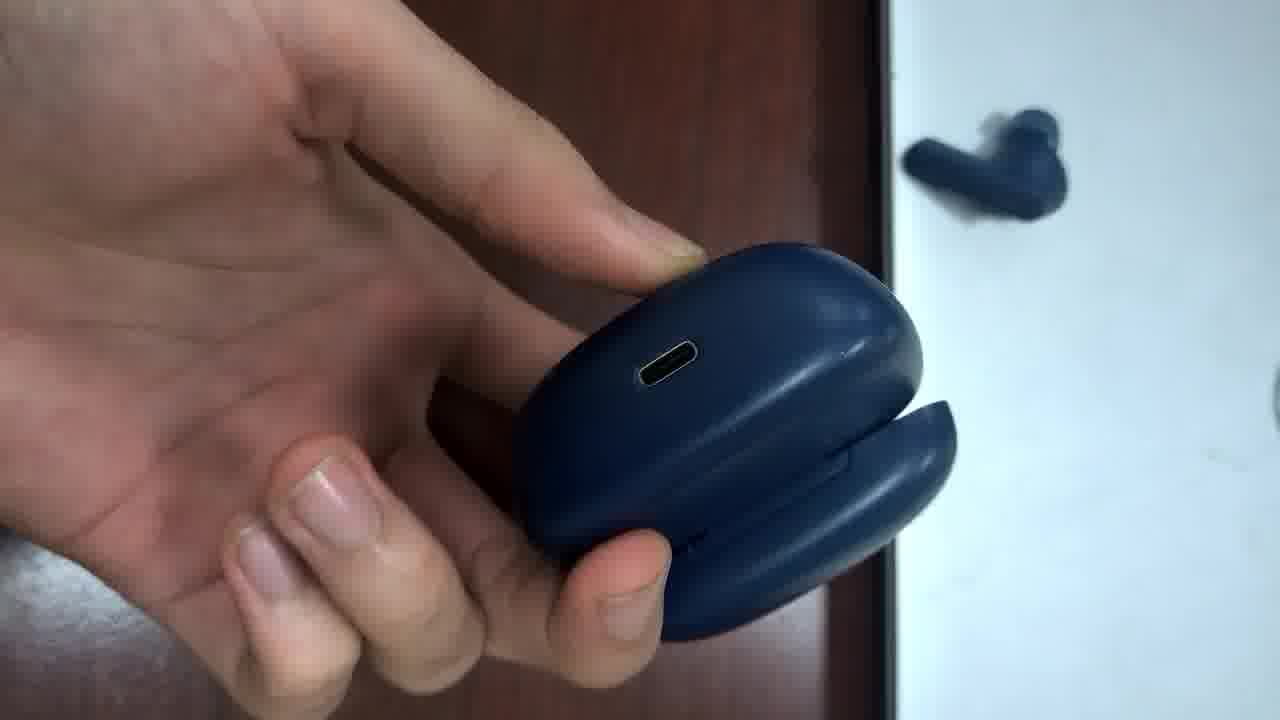Case: (459, 187, 963, 664)
Earbud: (903, 109, 1066, 220)
